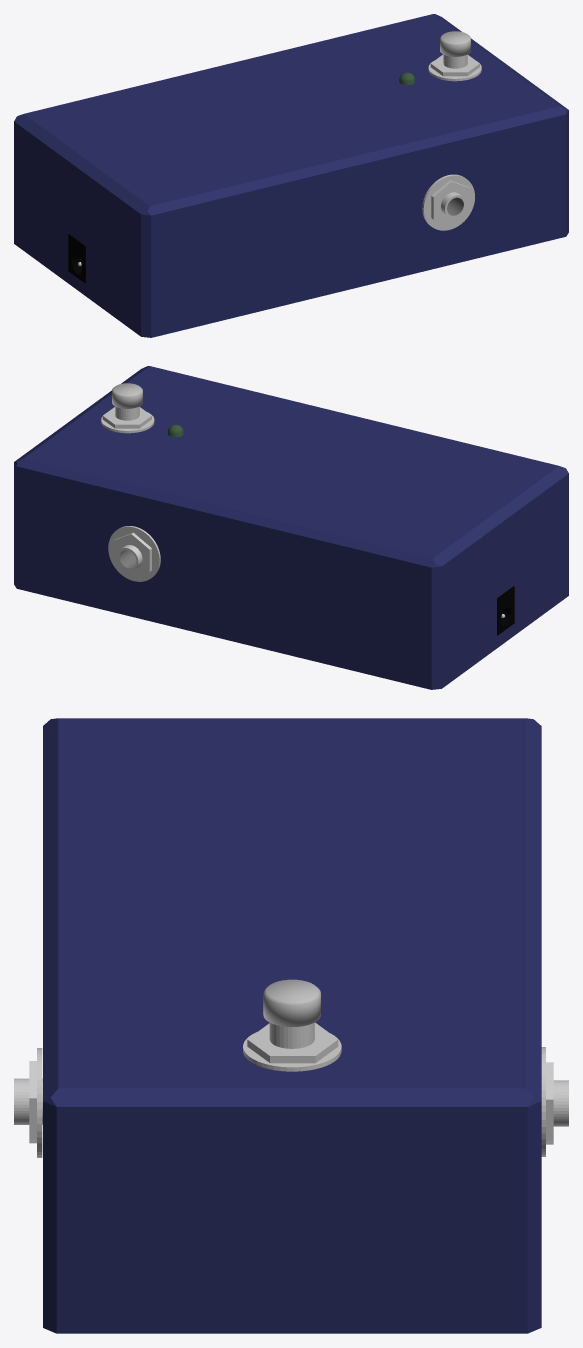
Rendered from pedal2.gltf.
3 renders of one model, top to bottom at view 1: azimuth 30°, elevation 25°; view 2: azimuth 150°, elevation 25°; view 3: azimuth 270°, elevation 25°, orthographic. The views are drawn at different scales.
Visible parts, largest first — view 1: Box, Base, Nut, Head, Nut.003, Plane; view 2: Box, Base.001, Nut.001, Head, Nut.003, Plane; view 3: Box, Head, Nut.003, Base.003, Cylinder, Outer Jack, Outer Jack.001.
Part boxes in pixels (<box>): Box: <box>14,14,568,337</box>; Base: <box>422,174,474,230</box>; Nut: <box>431,180,470,225</box>; Head: <box>440,31,470,56</box>; Nut.003: <box>430,54,479,76</box>; Plane: <box>68,234,85,283</box>; Box: <box>14,366,568,689</box>; Base.001: <box>108,526,160,581</box>; Nut.001: <box>113,532,151,578</box>; Head: <box>112,383,142,408</box>; Nut.003: <box>102,407,151,428</box>; Plane: <box>497,586,514,635</box>; Box: <box>43,718,541,1333</box>; Head: <box>263,979,320,1027</box>; Nut.003: <box>247,1022,338,1063</box>; Base.003: <box>243,1032,341,1071</box>; Cylinder: <box>269,1022,314,1048</box>; Outer Jack: <box>14,1078,42,1124</box>; Outer Jack.001: <box>553,1080,568,1126</box>.
Size of the model in its own units: 8.83 by 3.17 by 5.35.
